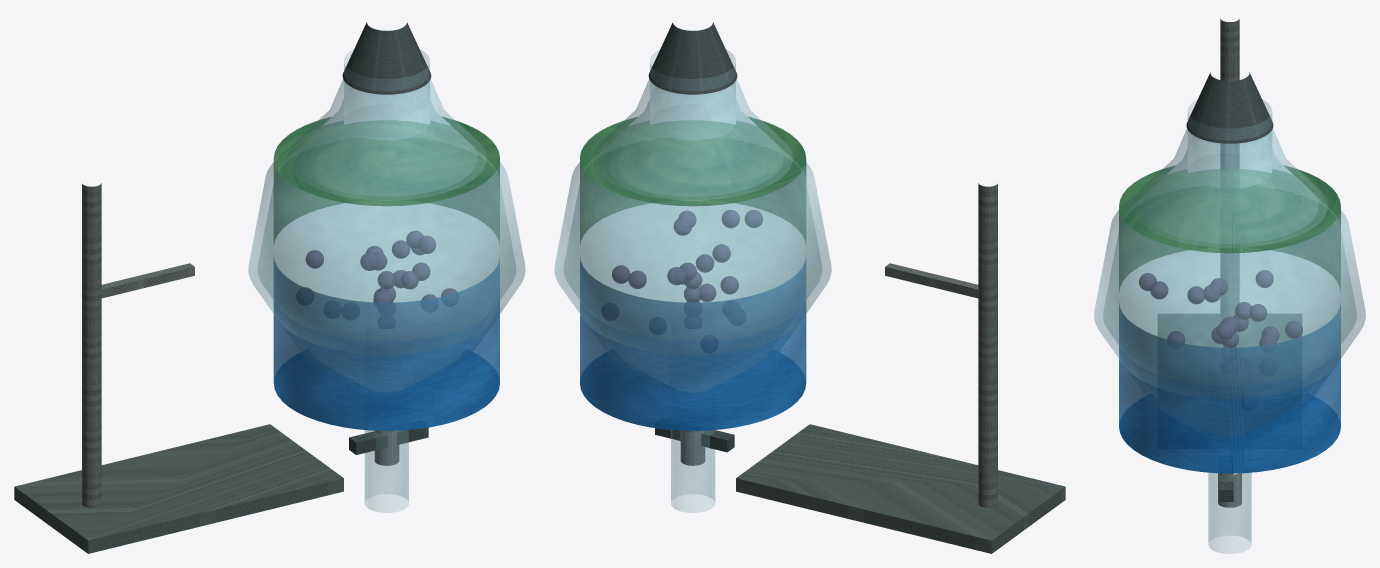
Rendered from alat-09.glb.
3 renders of one model, left to right at view 1: azimuth 30°, elevation 25°; view 2: azimuth 150°, elevation 25°; view 3: azimuth 270°, elevation 25°, orthographic.
Visible parts, largest first — view 1: separator-3, phaseBottom-7, box-0, phaseTop-8, cylinder-1, cone-6, tube-4, tube-5, box-2, stopcock-10, cylinder-9; view 2: separator-3, phaseBottom-7, box-0, phaseTop-8, cylinder-1, cone-6, tube-4, tube-5, box-2, stopcock-10, cylinder-9; view 3: separator-3, phaseBottom-7, phaseTop-8, cone-6, tube-5, tube-4, box-0, cylinder-1, cylinder-9, stopcock-10.
Part boxes in pixels (<box>): separator-3: <box>248,79,525,354</box>; phaseBottom-7: <box>273,259,499,430</box>; box-0: <box>14,424,343,553</box>; phaseTop-8: <box>273,117,499,243</box>; cylinder-1: <box>82,183,101,507</box>; cone-6: <box>342,22,431,94</box>; tube-4: <box>364,430,408,512</box>; tube-5: <box>344,49,429,120</box>; box-2: <box>101,263,194,298</box>; stopcock-10: <box>349,427,428,454</box>; cylinder-9: <box>374,430,399,465</box>; separator-3: <box>554,79,831,354</box>; phaseBottom-7: <box>580,259,806,430</box>; box-0: <box>736,424,1065,553</box>; phaseTop-8: <box>580,117,806,243</box>; cylinder-1: <box>978,183,997,507</box>; cone-6: <box>648,22,737,94</box>; tube-4: <box>671,430,715,512</box>; tube-5: <box>650,49,735,120</box>; box-2: <box>885,263,978,298</box>; stopcock-10: <box>655,428,734,452</box>; cylinder-9: <box>680,430,705,465</box>; separator-3: <box>1094,129,1365,398</box>; phaseBottom-7: <box>1119,304,1340,473</box>; phaseTop-8: <box>1119,165,1340,290</box>; cone-6: <box>1186,72,1273,143</box>; tube-5: <box>1187,99,1272,168</box>; tube-4: <box>1208,472,1251,553</box>; box-0: <box>1158,314,1301,347</box>; cylinder-1: <box>1220,19,1239,334</box>; cylinder-9: <box>1218,473,1241,507</box>; stopcock-10: <box>1219,473,1233,501</box>.
Bounding box in the file's own units: 4.28 × 4.32 × 2.25.
Materials: 33 (33 with a texture image).
